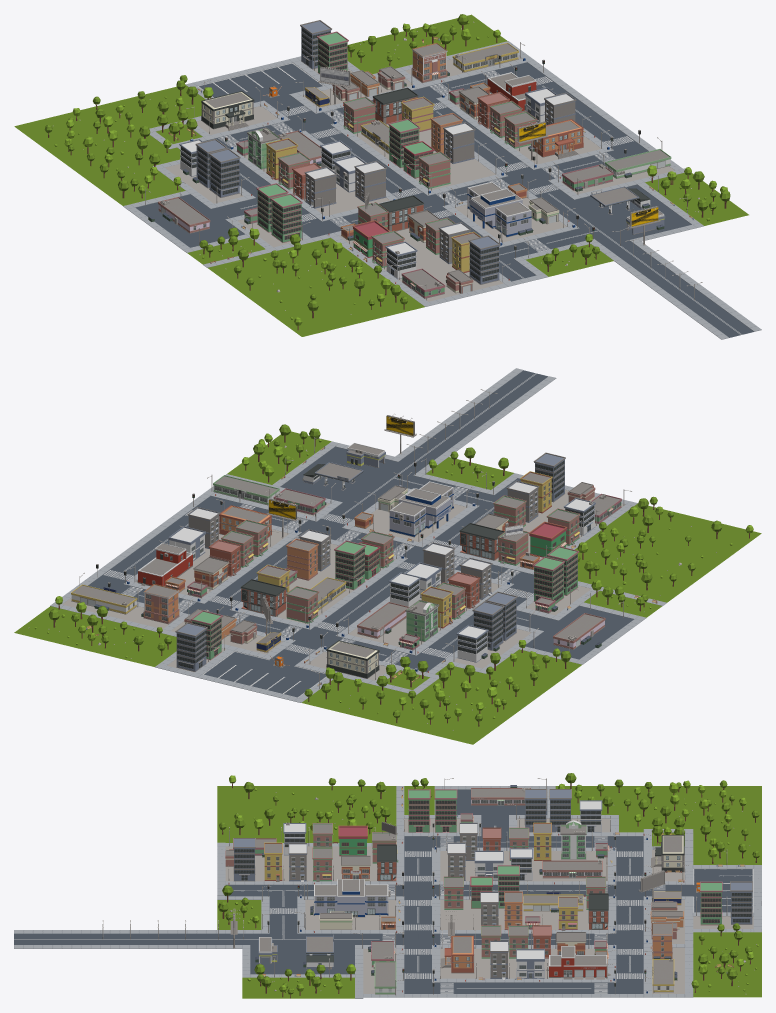
The model's file is town.glb.
The picture shows the model from 3 angles, top to bottom: view 1: azimuth 30°, elevation 25°; view 2: azimuth 150°, elevation 25°; view 3: azimuth 270°, elevation 25°; orthographic projection. The views are drawn at different scales.
Visible parts, largest first — view 1: sptp_grass_01 (7), sptp_grass_01, sptp_road_segment_01, sptp_road_segment_04, sptp_grass_01 (5), sptp_road_segment_03, sptp_grass_01 (1), sptp_building_33, sptp_grass_01 (9), sptp_building_30, sptp_grass_01 (2), sptp_street_concrete_02 (11) (+68 smaller); view 2: sptp_grass_01 (7), sptp_grass_01, sptp_road_segment_04, sptp_grass_01 (5), sptp_road_segment_01, sptp_road_segment_03, sptp_grass_01 (1), sptp_building_33, sptp_grass_01 (9), sptp_grass_01 (2), sptp_building_30, sptp_building_32 (+54 smaller); view 3: sptp_grass_01 (7), sptp_grass_01, sptp_grass_01 (5), sptp_road_segment_01, sptp_road_segment_04, sptp_building_33, sptp_grass_01 (1), sptp_grass_01 (9), sptp_road_segment_03, sptp_street_concrete_02, sptp_building_32, sptp_street_concrete_02 (11) (+78 smaller).
Boxes of the visible parts, bbox=[...] form: sptp_grass_01 (7): bbox=[208, 238, 424, 336]; sptp_grass_01: bbox=[14, 85, 205, 155]; sptp_road_segment_01: bbox=[549, 179, 703, 252]; sptp_road_segment_04: bbox=[185, 57, 332, 111]; sptp_grass_01 (5): bbox=[347, 14, 507, 74]; sptp_road_segment_03: bbox=[123, 189, 250, 252]; sptp_grass_01 (1): bbox=[55, 135, 180, 183]; sptp_building_33: bbox=[467, 181, 531, 237]; sptp_grass_01 (9): bbox=[645, 173, 748, 225]; sptp_building_30: bbox=[201, 91, 254, 130]; sptp_grass_01 (2): bbox=[93, 170, 185, 205]; sptp_street_concrete_02 (11): bbox=[339, 228, 503, 301]; sptp_grass_01 (7): bbox=[575, 503, 761, 602]; sptp_grass_01: bbox=[302, 678, 513, 744]; sptp_road_segment_04: bbox=[190, 646, 338, 702]; sptp_grass_01 (5): bbox=[14, 606, 176, 666]; sptp_road_segment_01: bbox=[271, 441, 423, 514]; sptp_road_segment_03: bbox=[512, 600, 646, 664]; sptp_grass_01 (1): bbox=[420, 665, 551, 714]; sptp_building_33: bbox=[389, 481, 453, 537]; sptp_grass_01 (9): bbox=[227, 431, 331, 484]; sptp_grass_01 (2): bbox=[493, 649, 581, 686]; sptp_building_30: bbox=[326, 640, 379, 678]; sptp_building_32: bbox=[136, 543, 192, 586]; sptp_grass_01 (7): bbox=[217, 786, 396, 842]; sptp_grass_01: bbox=[685, 786, 761, 864]; sptp_grass_01 (5): bbox=[693, 932, 761, 997]; sptp_road_segment_01: bbox=[225, 939, 379, 977]; sptp_road_segment_04: bbox=[668, 865, 761, 916]; sptp_building_33: bbox=[313, 879, 388, 917]; sptp_grass_01 (1): bbox=[612, 786, 684, 832]; sptp_grass_01 (9): bbox=[242, 977, 354, 998]; sptp_road_segment_03: bbox=[434, 786, 555, 825]; sptp_street_concrete_02: bbox=[440, 900, 588, 929]; sptp_building_32: bbox=[546, 946, 610, 979]; sptp_street_concrete_02 (11): bbox=[225, 846, 376, 881].
Size of the model in its own units: 184 by 13.99 by 272.
Materials: 1 (1 with a texture image).
